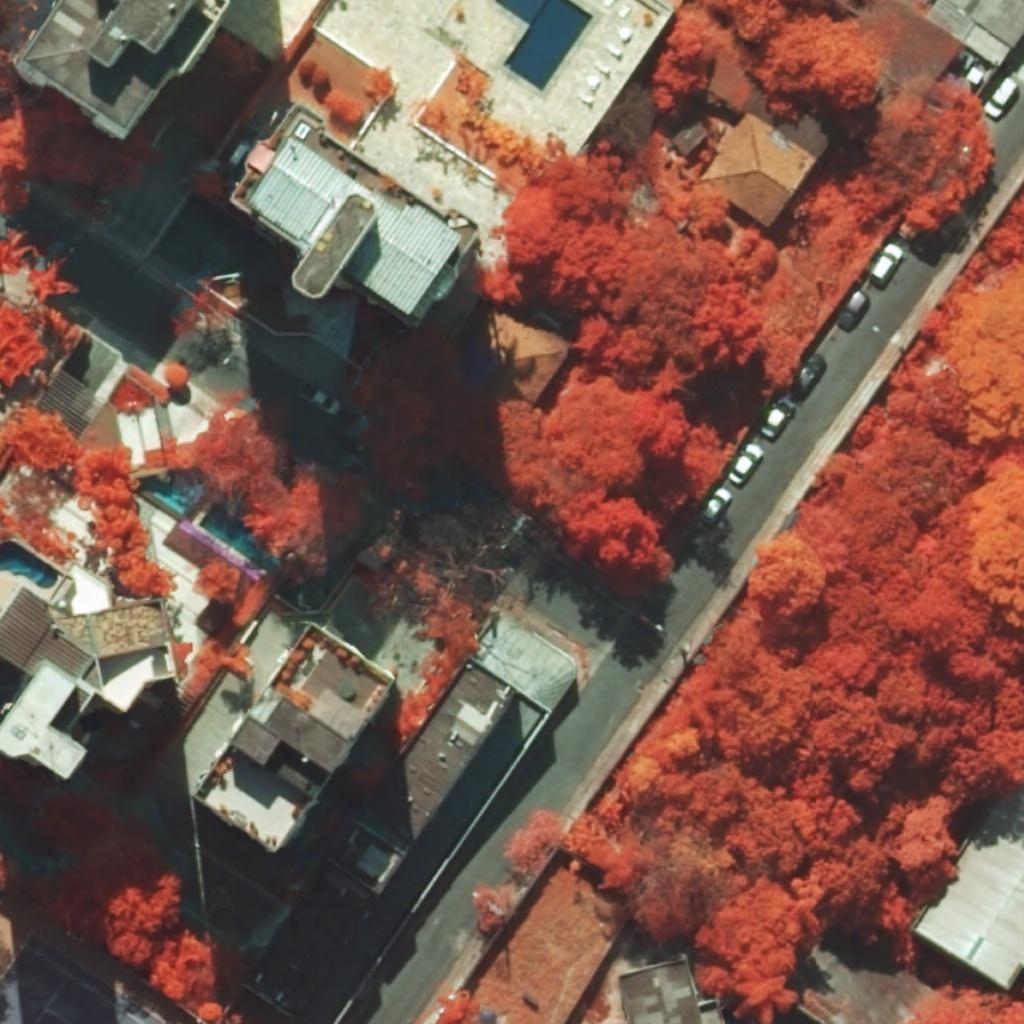pool: (495, 0, 593, 92), (199, 503, 278, 573), (0, 541, 57, 588), (151, 481, 187, 514)
